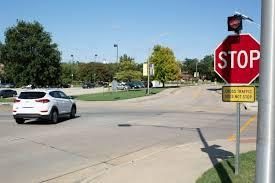Pole: (235, 102, 241, 173), (147, 77, 149, 94)
Sign: (214, 35, 261, 86)
